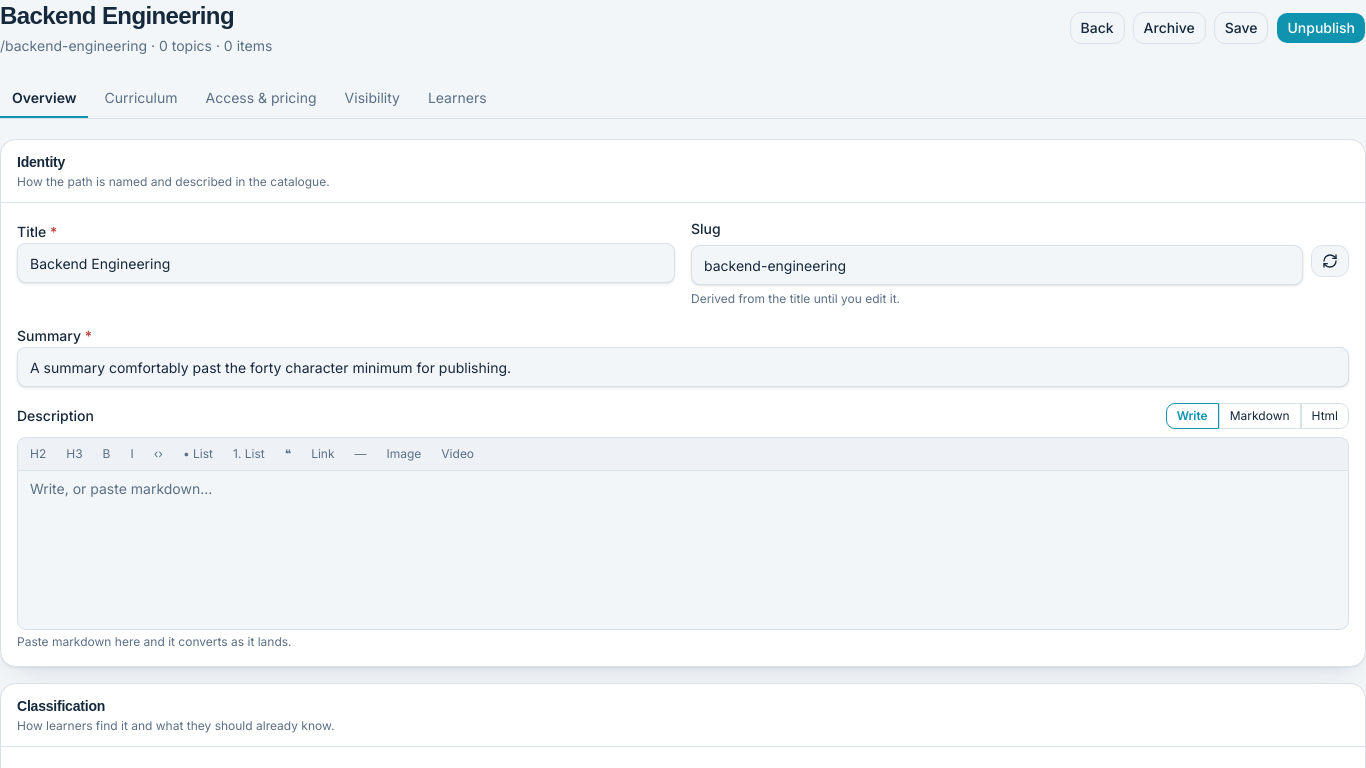
Test case: PathDetailClient — Paddle field gating › renders no Paddle plan code or Paddle price ID input for an instructor
Click the tab "Access & pricing": (261, 99) [194,80,329,118]
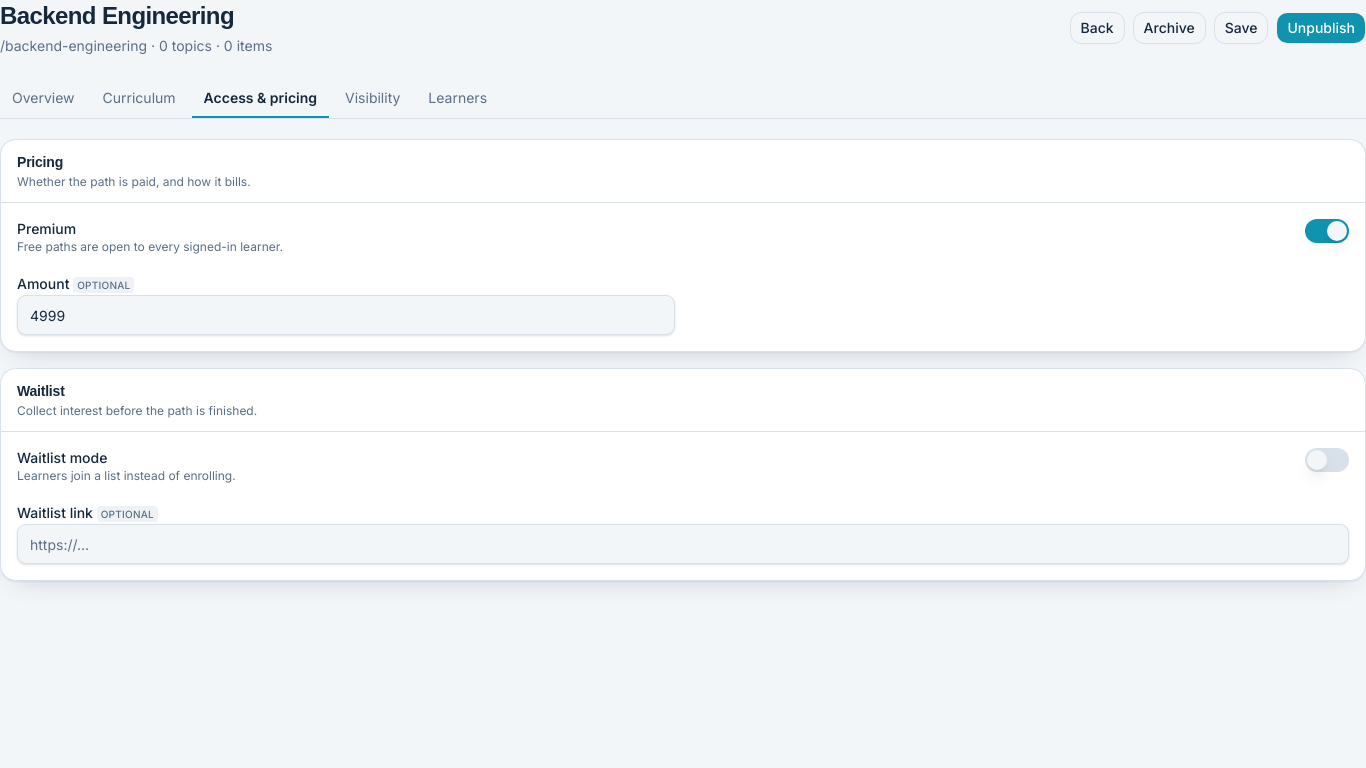
Now the heading "Pricing" is shown, box [17,154,63,170]
